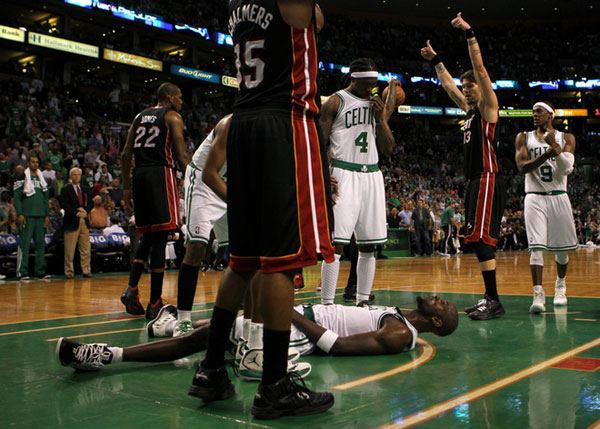10+: (1, 2, 595, 333)
down: (51, 292, 461, 377)
